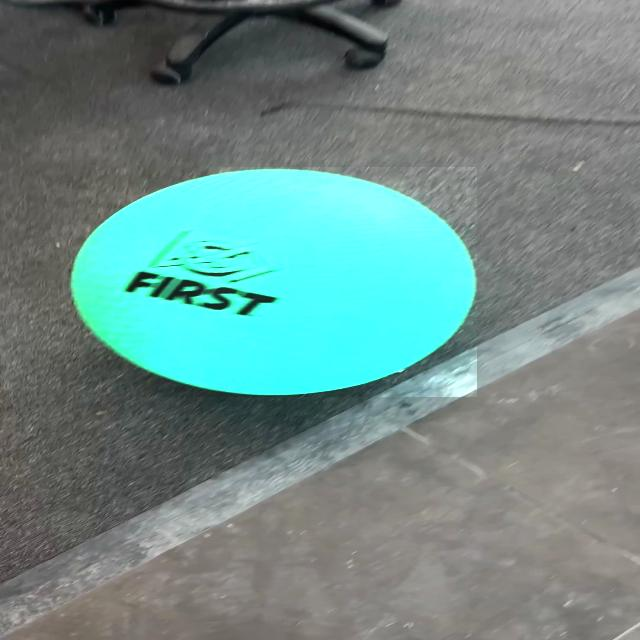Algae: (69, 167, 477, 397)
